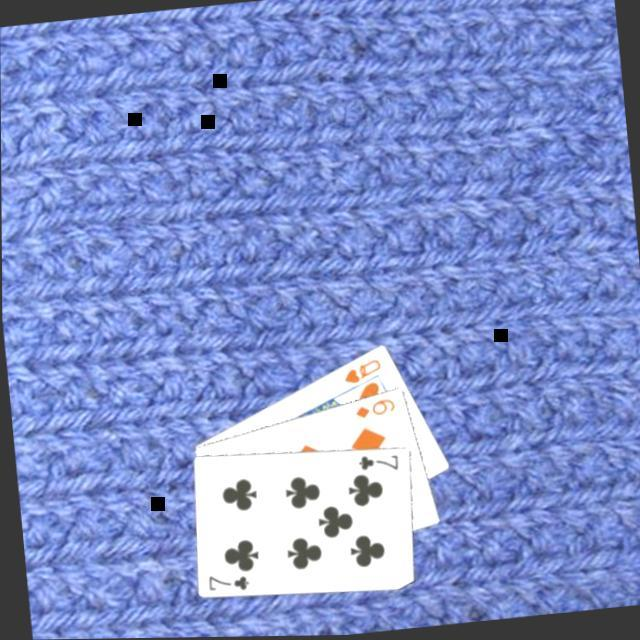6D: (351, 393, 398, 422)
7C: (204, 567, 252, 596), (354, 448, 402, 476)
QH: (338, 354, 386, 387)
